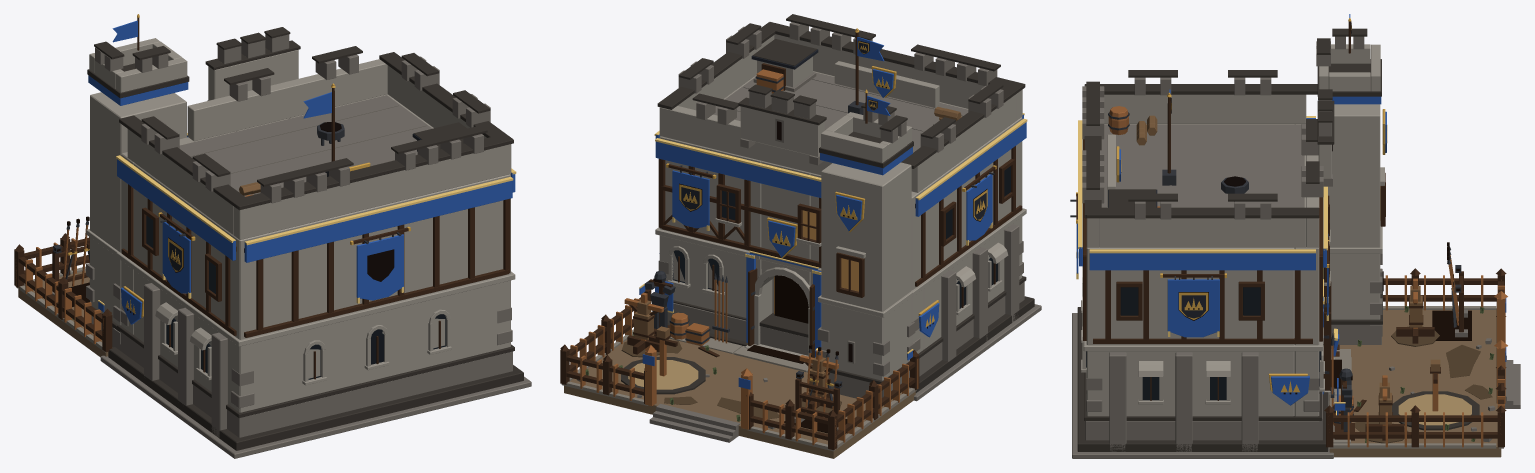
3 renders of one model, left to right at view 1: azimuth 30°, elevation 25°; view 2: azimuth 150°, elevation 25°; view 3: azimuth 270°, elevation 25°, orthographic. The views are drawn at different scales.
Visible parts, largest first — view 1: BR-主体, BR-team, BR-自发光, BR-team_trim; view 2: BR-主体, BR-team, BR-自发光, BR-team_trim; view 3: BR-主体, BR-team, BR-自发光, BR-team_trim.
Boxes of the visible parts, box(x1,y1,x2,y2) form: BR-主体: box(14, 14, 531, 458); BR-team: box(88, 20, 515, 324); BR-自发光: box(127, 122, 446, 379); BR-team_trim: box(98, 133, 516, 305); BR-主体: box(560, 14, 1041, 458); BR-team: box(639, 37, 1026, 389); BR-自发光: box(653, 40, 1010, 361); BR-team_trim: box(639, 113, 1027, 353); BR-主体: box(1070, 18, 1520, 458); BR-team: box(1076, 14, 1506, 415); BR-自发光: box(1086, 21, 1383, 400); BR-team_trim: box(1076, 116, 1345, 415).
Size of the model in its own units: 11.08 by 11.6 by 14.73.
Materials: 4 (2 with a texture image).
